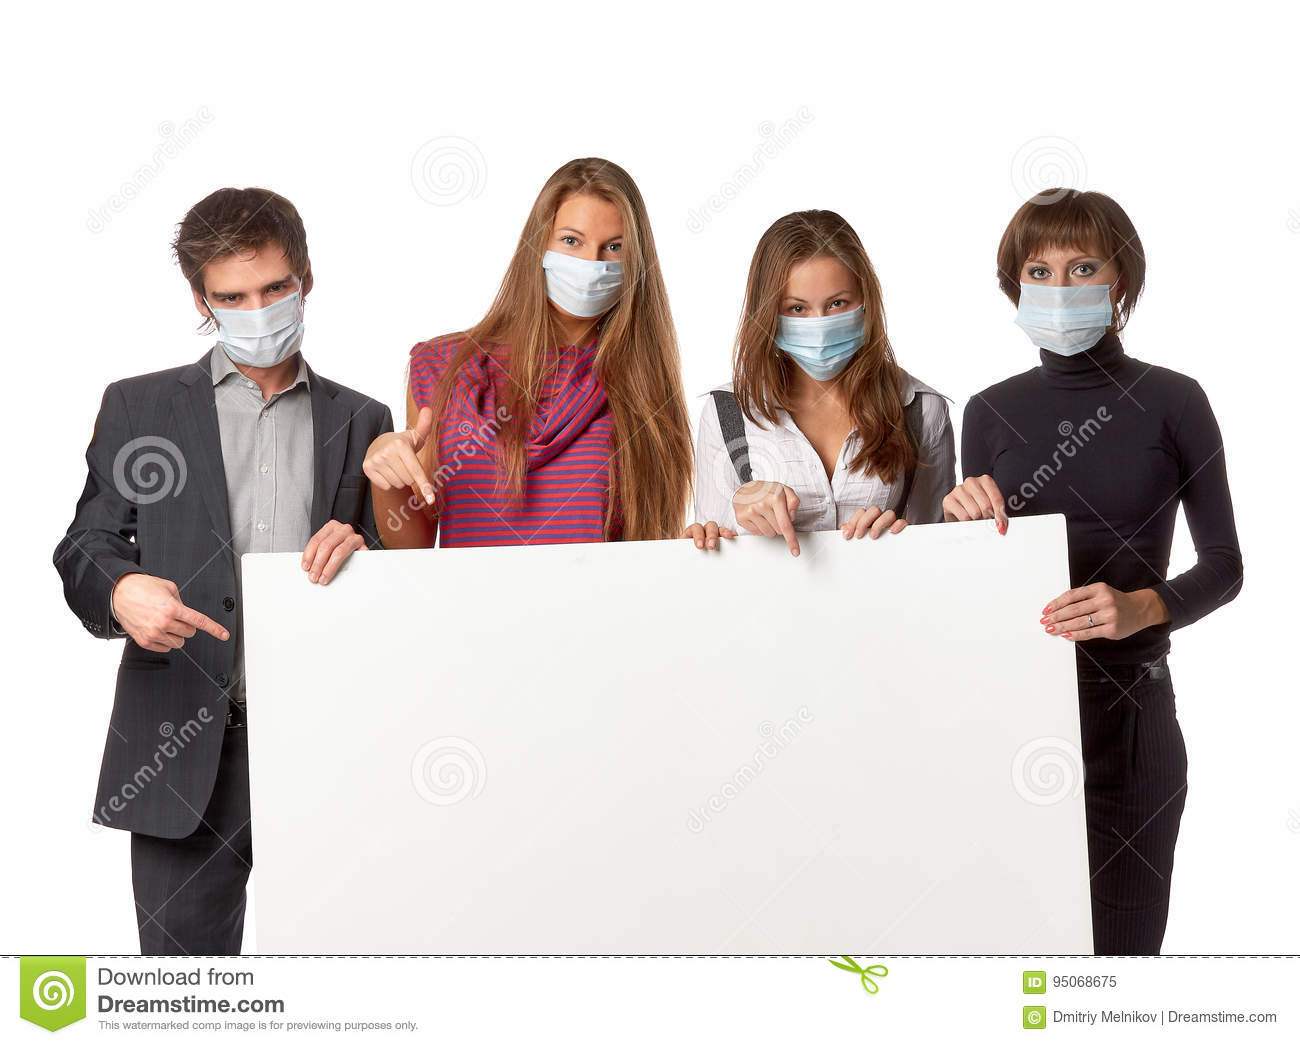mask: (1014, 282, 1113, 359), (215, 294, 306, 371), (779, 307, 868, 381), (542, 251, 626, 317)
